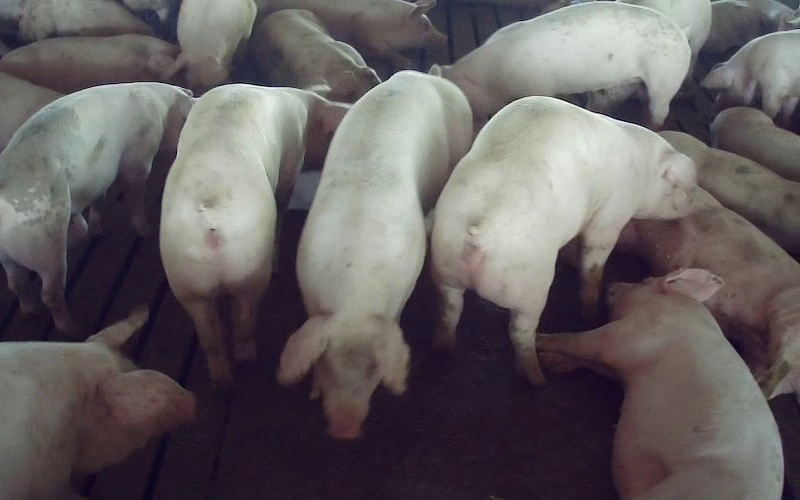pig: (431, 96, 701, 384), (278, 64, 472, 438), (537, 269, 783, 499), (160, 84, 347, 383), (0, 82, 193, 332), (616, 190, 799, 401), (0, 306, 194, 499), (440, 2, 690, 126), (659, 131, 799, 255), (257, 0, 446, 67), (250, 9, 379, 102), (0, 34, 178, 93), (702, 30, 799, 118), (710, 107, 799, 181), (19, 0, 153, 41)
